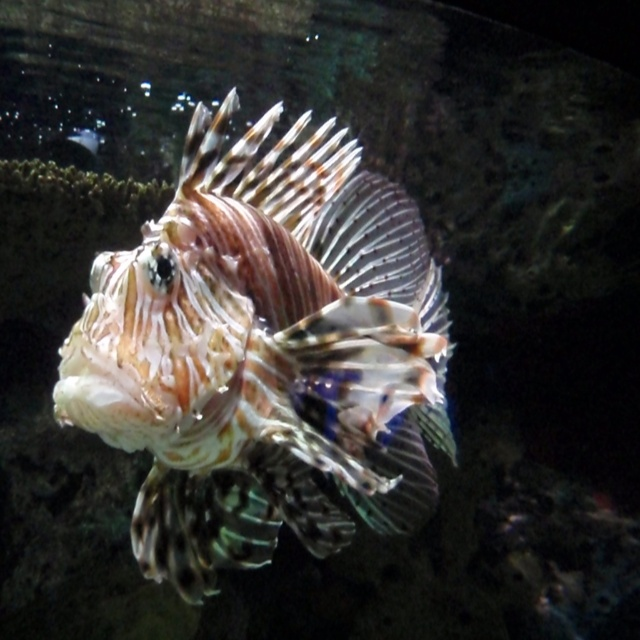Fish: (53, 86, 459, 606)
